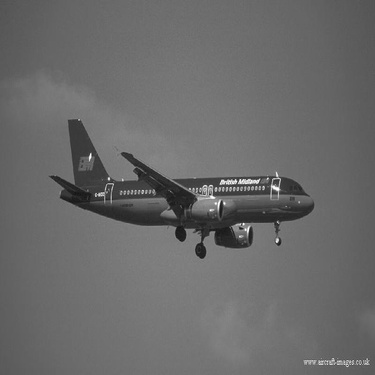airplane: (33, 102, 334, 259)
